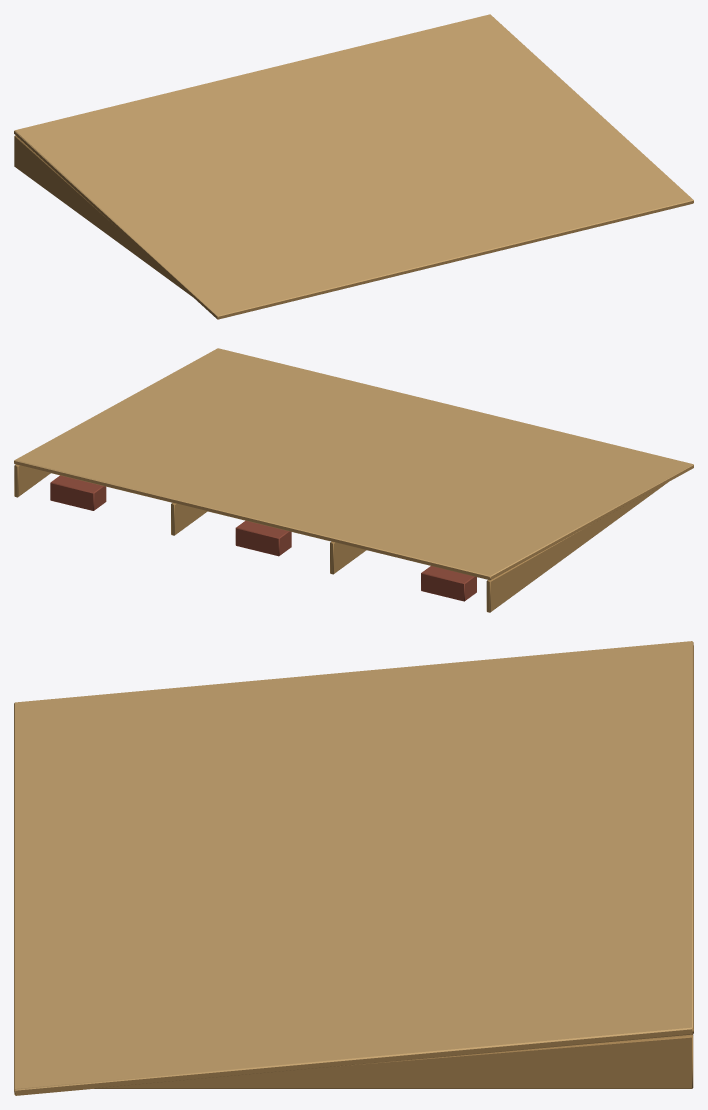
File: kicker.glb
The picture shows the model from 3 angles, top to bottom: view 1: azimuth 30°, elevation 25°; view 2: azimuth 150°, elevation 25°; view 3: azimuth 270°, elevation 25°; orthographic projection. The views are drawn at different scales.
Visible parts, largest first — view 1: kicker; view 2: kicker; view 3: kicker.
Part boxes in pixels (x1,y1,x2,y2): kicker: (14, 14, 693, 319); kicker: (14, 348, 693, 612); kicker: (14, 641, 693, 1095).
Bounding box in the file's own units: 10.8 × 0.8866 × 8.01.
